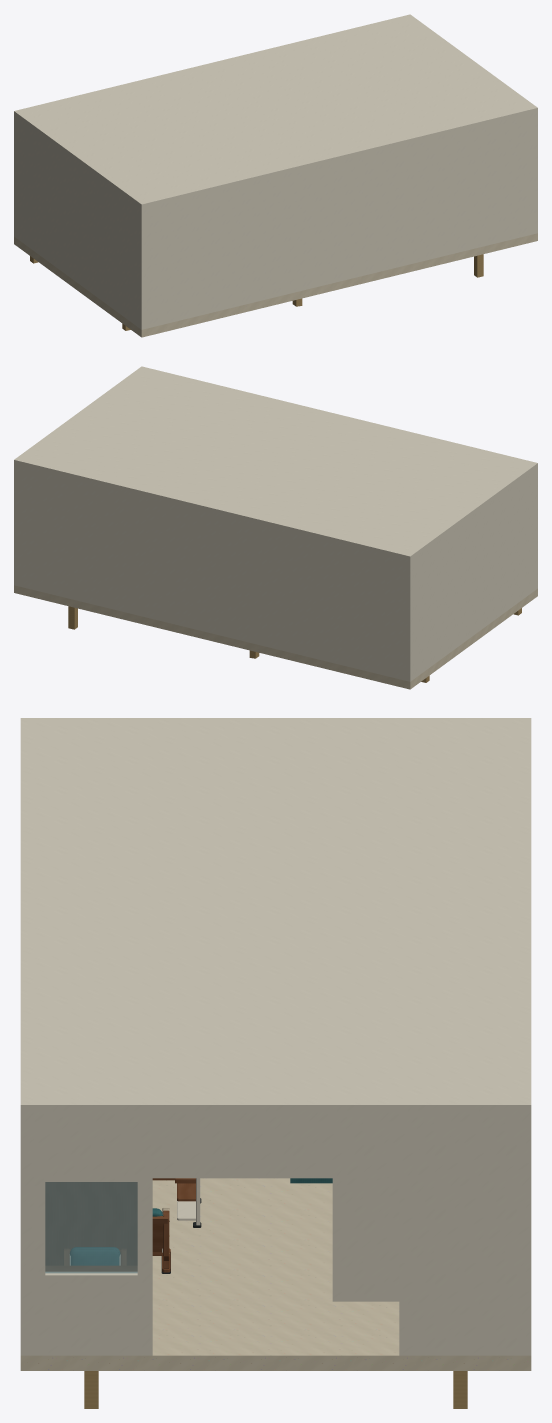
File: StarAtlasSpecialty_455.glb
3 renders of one model, top to bottom at view 1: azimuth 30°, elevation 25°; view 2: azimuth 150°, elevation 25°; view 3: azimuth 270°, elevation 25°, orthographic. The views are drawn at different scales.
Parts seen in each view (by area): view 1: SA455_Ceiling, SA455_NorthSide, SA455_OpaqueRearBoundary, SA455_RoomFloor; view 2: SA455_Ceiling, SA455_SouthSide, SA455_OpaqueRearBoundary, SA455_RoomFloor; view 3: SA455_Ceiling, SA455_RoomFloor, SA455_EntryShoulderSouth, SA455_EntryHeader, SA455_StreetWindowLower, SA455_ScreenedStreetGlass, SA455_WashEntrySide, SA455_StreetWindowUpper, SA455_EntryPrivacyDogleg, SA455_NorthSide, SA455_SouthSide, SA455_StreetWindowOuterPier (+2 smaller).
Boxes of the visible parts, left/top/right/bottom form: SA455_Ceiling: left=14, top=14, right=537, bottom=209; SA455_NorthSide: left=139, top=113, right=537, bottom=329; SA455_OpaqueRearBoundary: left=16, top=118, right=139, bottom=327; SA455_RoomFloor: left=14, top=233, right=537, bottom=337; SA455_Ceiling: left=14, top=366, right=537, bottom=561; SA455_SouthSide: left=14, top=465, right=412, bottom=681; SA455_OpaqueRearBoundary: left=412, top=470, right=535, bottom=679; SA455_RoomFloor: left=14, top=585, right=537, bottom=689; SA455_Ceiling: left=20, top=718, right=531, bottom=1115; SA455_RoomFloor: left=20, top=1178, right=531, bottom=1370; SA455_EntryShoulderSouth: left=399, top=1115, right=522, bottom=1355; SA455_EntryHeader: left=148, top=1115, right=403, bottom=1178; SA455_StreetWindowLower: left=29, top=1272, right=152, bottom=1355; SA455_ScreenedStreetGlass: left=45, top=1182, right=137, bottom=1273; SA455_WashEntrySide: left=332, top=1178, right=399, bottom=1301; SA455_StreetWindowUpper: left=29, top=1115, right=152, bottom=1181; SA455_EntryPrivacyDogleg: left=45, top=1182, right=137, bottom=1265; SA455_NorthSide: left=20, top=1115, right=28, bottom=1355; SA455_SouthSide: left=523, top=1115, right=531, bottom=1355; SA455_StreetWindowOuterPier: left=29, top=1182, right=45, bottom=1275.
Bounding box in the file's own units: 12.9 × 5.31 × 7.2.
67 materials, 49 textured.
